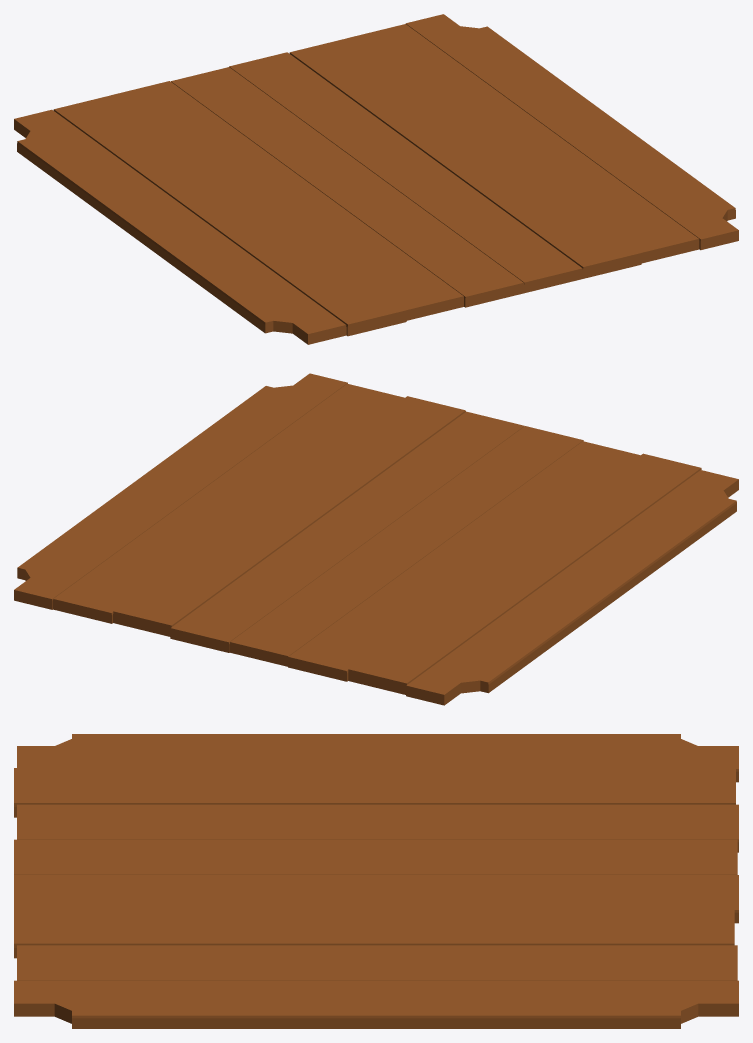
The model's file is Building_Modular_Jetty_Walkway_Timber_Base_01.fbx.
The picture shows the model from 3 angles, top to bottom: view 1: azimuth 30°, elevation 25°; view 2: azimuth 150°, elevation 25°; view 3: azimuth 270°, elevation 25°; orthographic projection. The views are drawn at different scales.
Parts seen in each view (by area): view 1: Building_Modular_Jetty_Walkway_Timber_Base_01; view 2: Building_Modular_Jetty_Walkway_Timber_Base_01; view 3: Building_Modular_Jetty_Walkway_Timber_Base_01.
Boxes of the visible parts, x1,y1,x2,y2 form: Building_Modular_Jetty_Walkway_Timber_Base_01: (14,14,738,344); Building_Modular_Jetty_Walkway_Timber_Base_01: (14,373,738,705); Building_Modular_Jetty_Walkway_Timber_Base_01: (14,734,738,1028).
Size of the model in its own units: 4566 by 109 by 4963.
